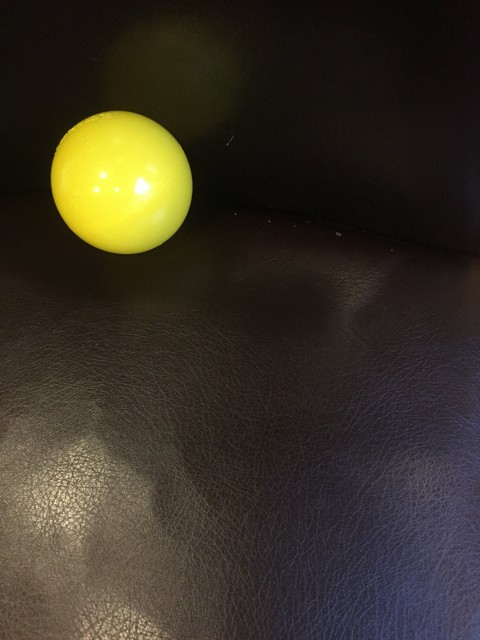ball: (51, 108, 193, 255)
